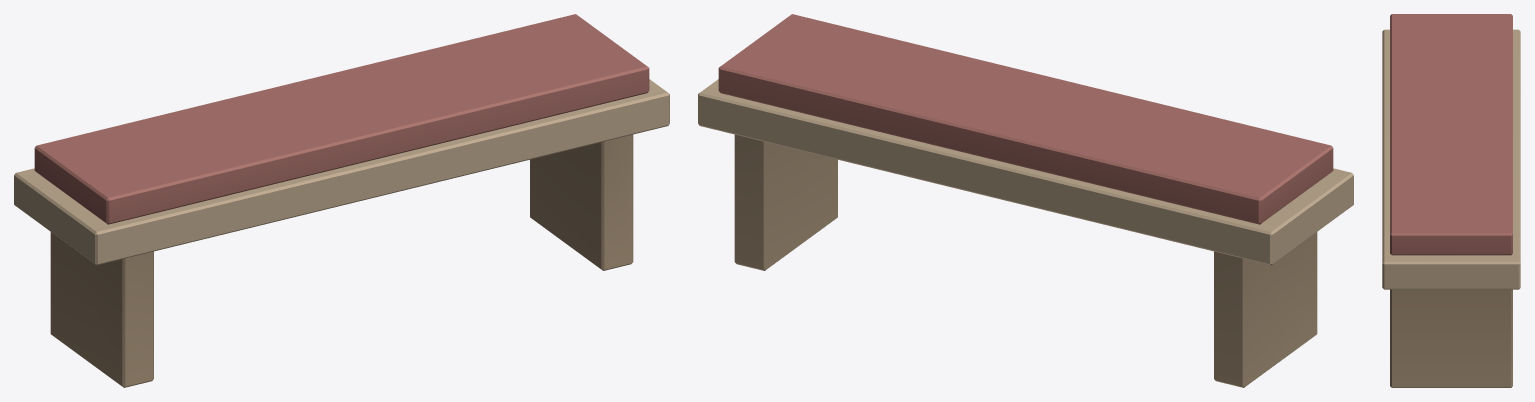
The model's file is museum_bench.glb.
3 renders of one model, left to right at view 1: azimuth 30°, elevation 25°; view 2: azimuth 150°, elevation 25°; view 3: azimuth 270°, elevation 25°, orthographic. The views are drawn at different scales.
Size of the model in its own units: 1.8 by 0.58 by 0.45.
